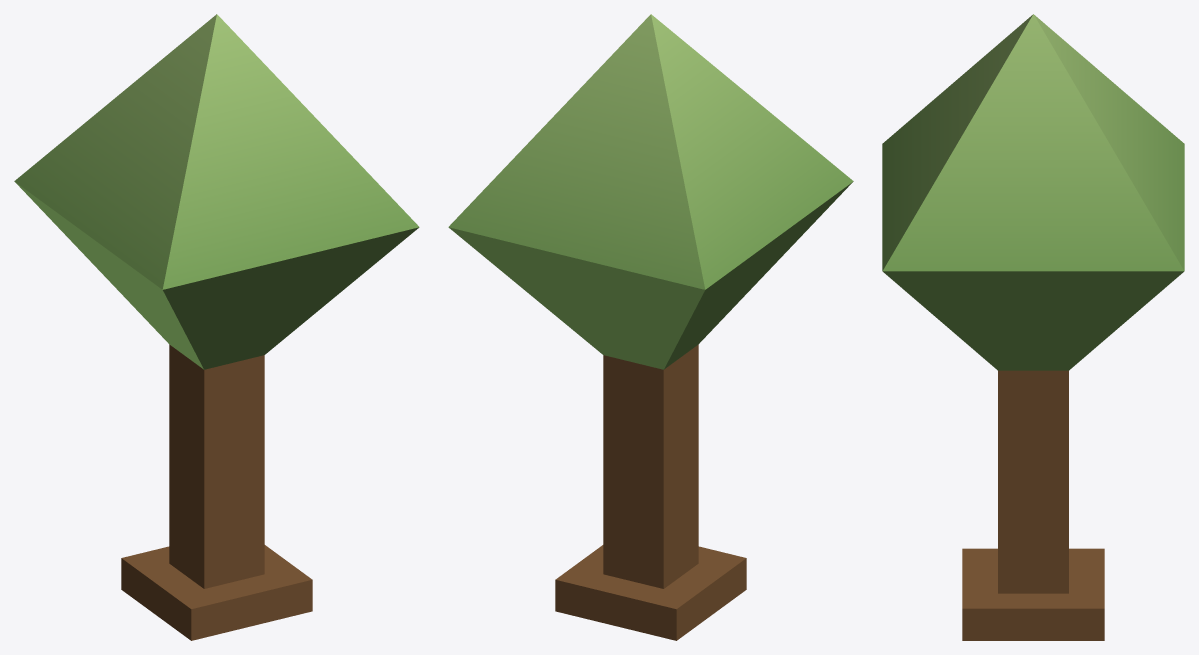
Rendered from tree.glb.
3 views of the same model, side by side, from view 1: azimuth 30°, elevation 25°; view 2: azimuth 150°, elevation 25°; view 3: azimuth 270°, elevation 25° (orthographic).
Parts seen in each view (by area): view 1: canopy, trunk, root-flare; view 2: canopy, trunk, root-flare; view 3: canopy, trunk, root-flare.
Part boxes in pixels (x1,y1,x2,y2): canopy: (14, 14, 419, 369); trunk: (169, 344, 264, 588); root-flare: (121, 545, 312, 640); canopy: (448, 14, 853, 369); trunk: (603, 344, 698, 588); root-flare: (555, 545, 746, 640); canopy: (882, 14, 1184, 370); trunk: (998, 370, 1068, 593); root-flare: (962, 548, 1104, 640).
Bounding box in the file's own units: 1.7 × 3.7 × 1.7.
